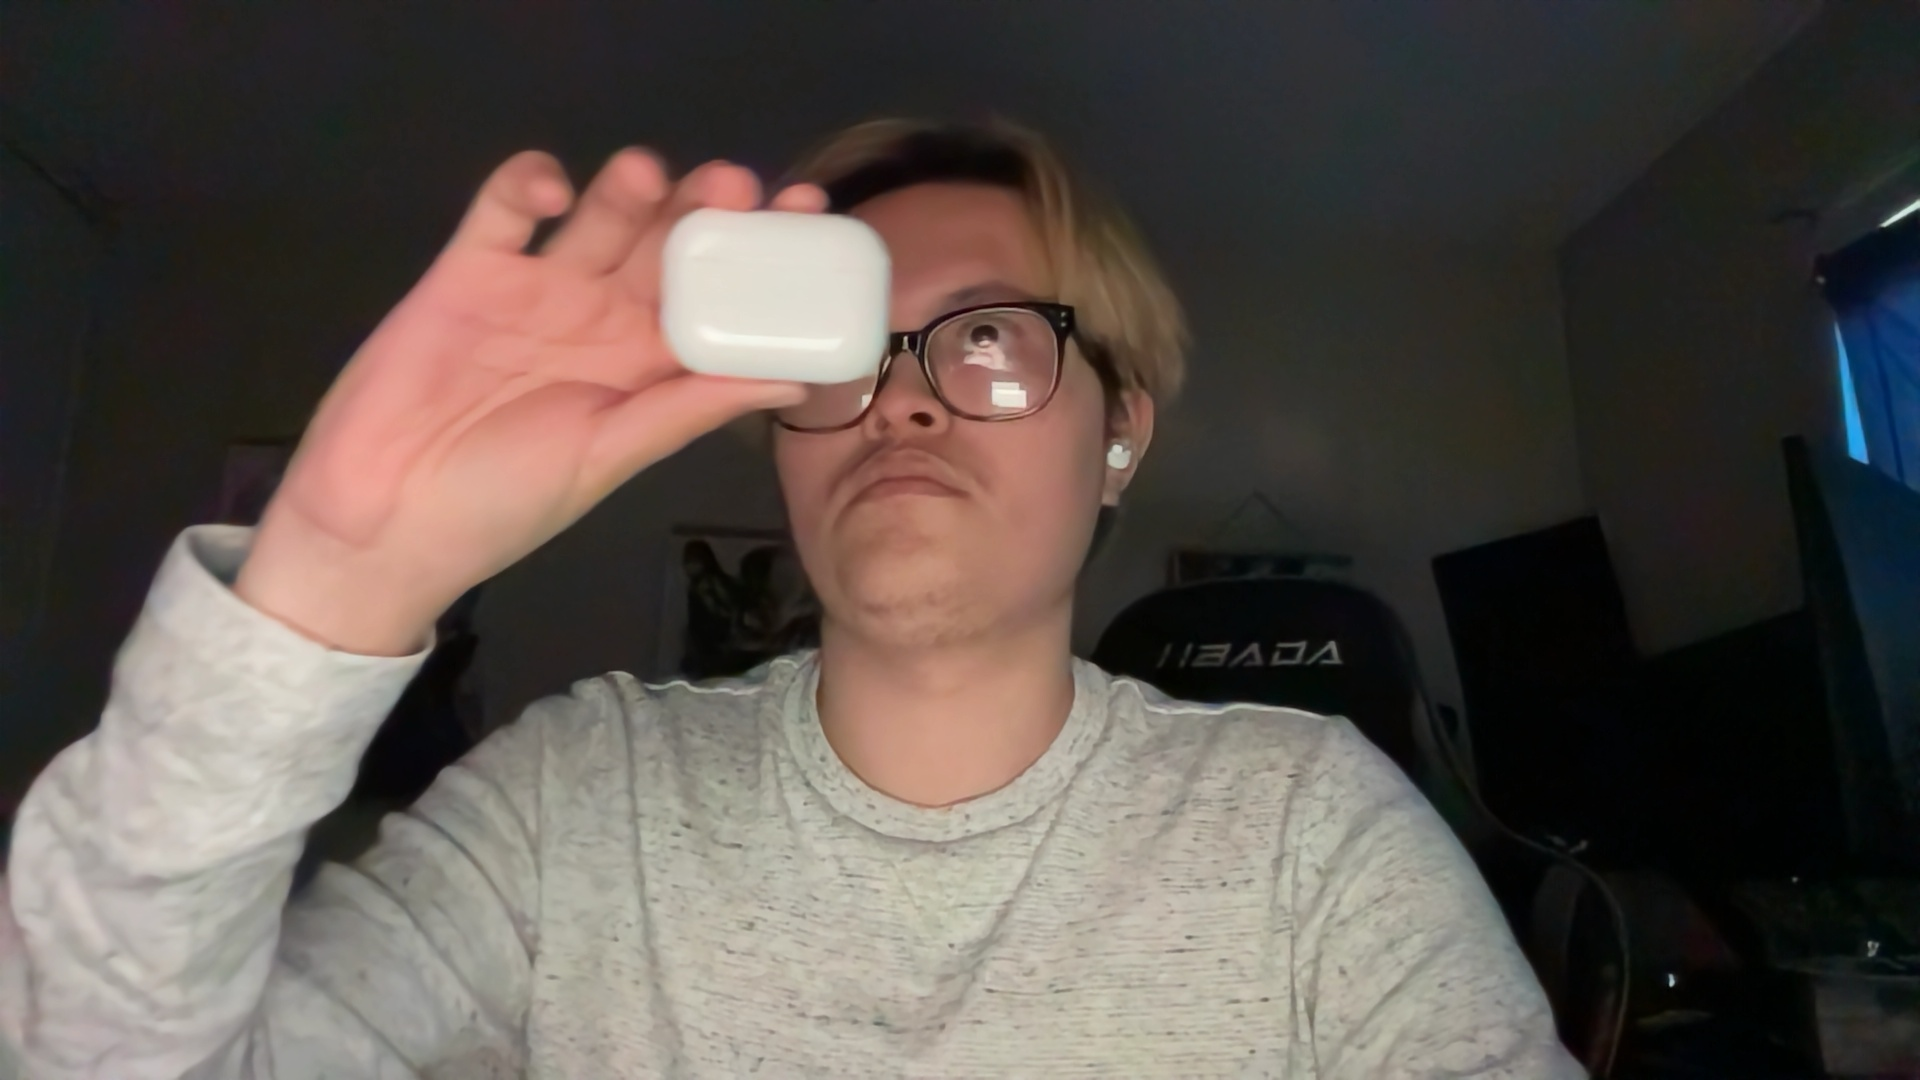airpods: (654, 208, 886, 390)
